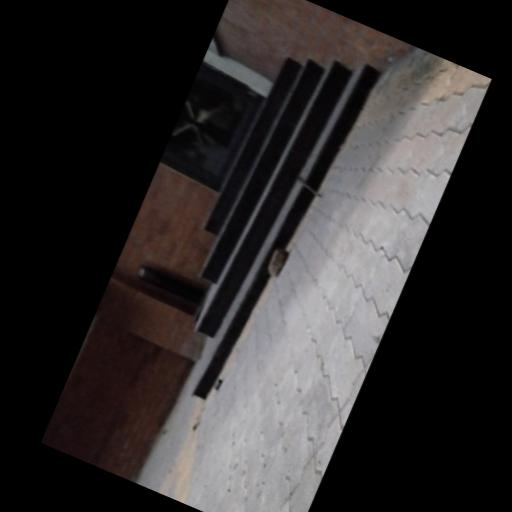stairs: (195, 58, 378, 396)
